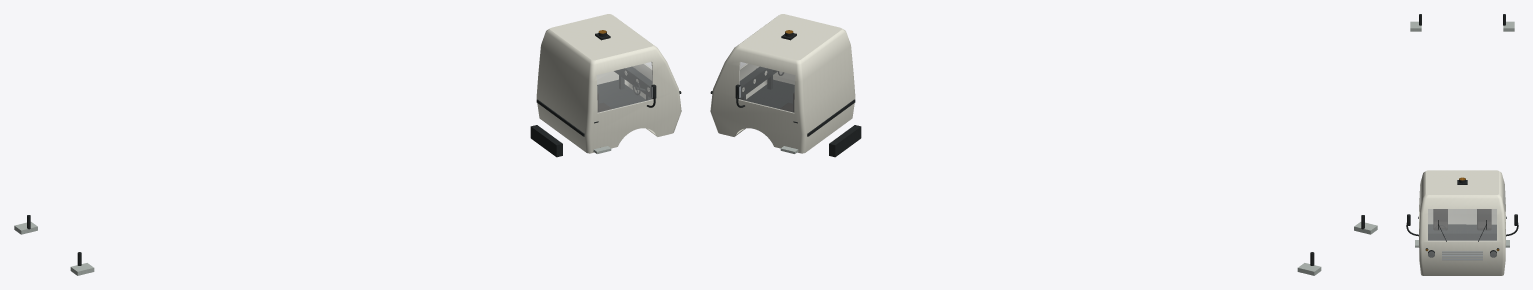
File: cab_assembly.glb
3 views of the same model, side by side, from view 1: azimuth 30°, elevation 25°; view 2: azimuth 150°, elevation 25°; view 3: azimuth 270°, elevation 25° (orthographic). The views are drawn at different scales.
Visible parts, largest first — view 1: Sculpted hollow cab with wheel arches and window apertures, Cab fitted finite right side glass, Cab seated closed floor, Finite seated radiator grille backing, Cab full width instrument bridge; view 2: Sculpted hollow cab with wheel arches and window apertures, Cab fitted finite left side glass, Cab seated closed floor, Finite seated radiator grille backing, Cab full width instrument bridge; view 3: Sculpted hollow cab with wheel arches and window apertures, Cab fitted finite windscreen glass, Cab full width instrument bridge, Cab seated closed floor, Cab upholstered seat back -1, Cab upholstered seat back 1, Cab upholstered seat cushion 1, Rear crew step -1, Rear crew step 1, Cab upholstered seat cushion -1, Cab front grille raised bar 0, Cab front grille raised bar 1 (+3 smaller).
Part boxes in pixels (bbox=[...]): Sculpted hollow cab with wheel arches and window apertures: bbox=[536, 14, 681, 153]; Cab fitted finite right side glass: bbox=[596, 62, 652, 112]; Cab seated closed floor: bbox=[536, 79, 645, 136]; Finite seated radiator grille backing: bbox=[530, 125, 562, 157]; Cab full width instrument bridge: bbox=[614, 66, 652, 98]; Sculpted hollow cab with wheel arches and window apertures: bbox=[710, 14, 855, 153]; Cab fitted finite left side glass: bbox=[739, 62, 795, 112]; Cab seated closed floor: bbox=[746, 79, 855, 136]; Finite seated radiator grille backing: bbox=[829, 125, 861, 157]; Cab full width instrument bridge: bbox=[739, 66, 777, 98]; Sculpted hollow cab with wheel arches and window apertures: bbox=[1419, 170, 1505, 275]; Cab fitted finite windscreen glass: bbox=[1428, 209, 1496, 240]; Cab full width instrument bridge: bbox=[1428, 230, 1496, 240]; Cab seated closed floor: bbox=[1428, 224, 1496, 230]; Cab upholstered seat back -1: bbox=[1433, 209, 1447, 221]; Cab upholstered seat back 1: bbox=[1477, 209, 1491, 221]; Cab upholstered seat cushion 1: bbox=[1477, 221, 1491, 230]; Rear crew step -1: bbox=[1410, 21, 1421, 31]; Rear crew step 1: bbox=[1503, 21, 1514, 31]; Cab upholstered seat cushion -1: bbox=[1433, 221, 1447, 230]; Cab front grille raised bar 0: bbox=[1442, 259, 1482, 260]; Cab front grille raised bar 1: bbox=[1442, 257, 1482, 258].
Bounding box in the file's own units: 15.47 × 2.46 × 2.97.
Materials: 10 (10 with a texture image).
